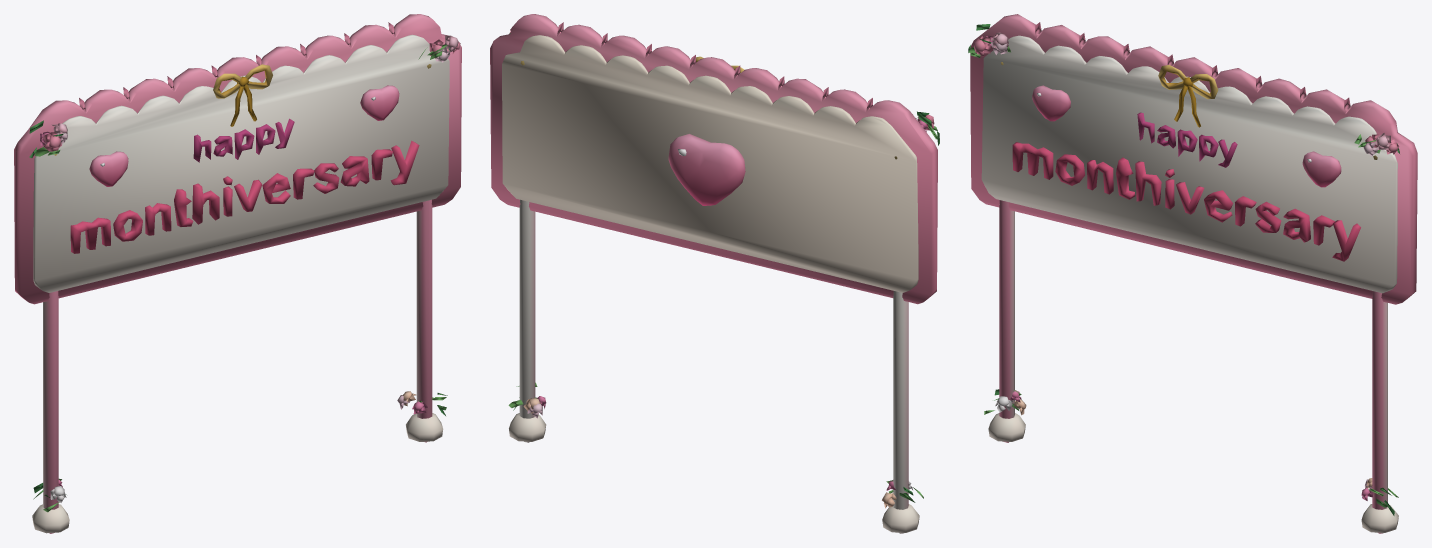
The model's file is prp_anniv_sign_month_lite.glb.
The picture shows the model from 3 angles, left to right: view 1: azimuth 30°, elevation 25°; view 2: azimuth 150°, elevation 25°; view 3: azimuth 330°, elevation 25°; orthographic projection.
Parts seen in each view (by area): view 1: INST_prp_anniv_sign_month_lite_sign_month; view 2: INST_prp_anniv_sign_month_lite_sign_month; view 3: INST_prp_anniv_sign_month_lite_sign_month.
Part boxes in pixels (x1=…): INST_prp_anniv_sign_month_lite_sign_month: x1=14, y1=14, x2=461, y2=533; INST_prp_anniv_sign_month_lite_sign_month: x1=490, y1=14, x2=939, y2=533; INST_prp_anniv_sign_month_lite_sign_month: x1=968, y1=14, x2=1417, y2=533.
Bounding box in the file's own units: 4.76 × 4.39 × 0.6085.
